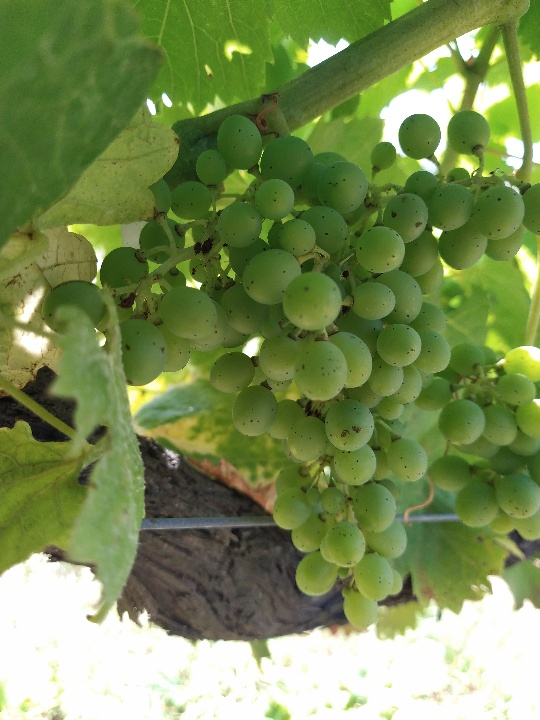grape: (41, 107, 538, 631)
